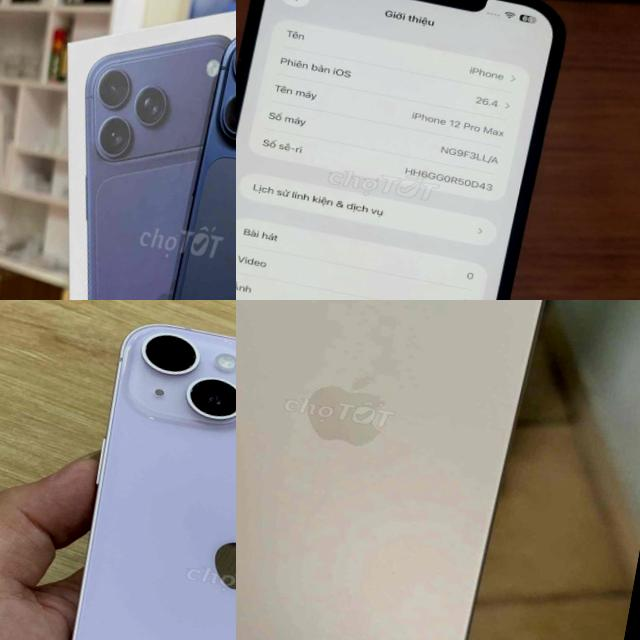gen_12_13: (236, 0, 565, 300)
gen_14: (33, 306, 236, 640)
gen_16: (236, 300, 541, 640)
gen_17: (135, 21, 236, 300)
